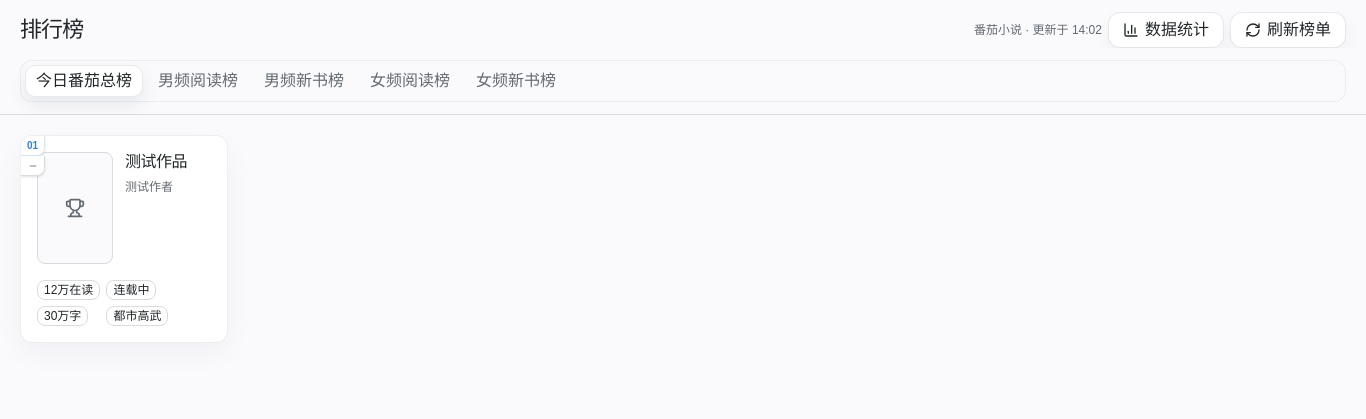
Scenario: LeaderboardPage › 切换主榜单后读取本地聚合缓存，不重新请求云端
Expected: the heading "测试作品" is shown, [125,152,187,171]
Click the button "女频新书榜" at [516, 81], box [465,65,567,97]
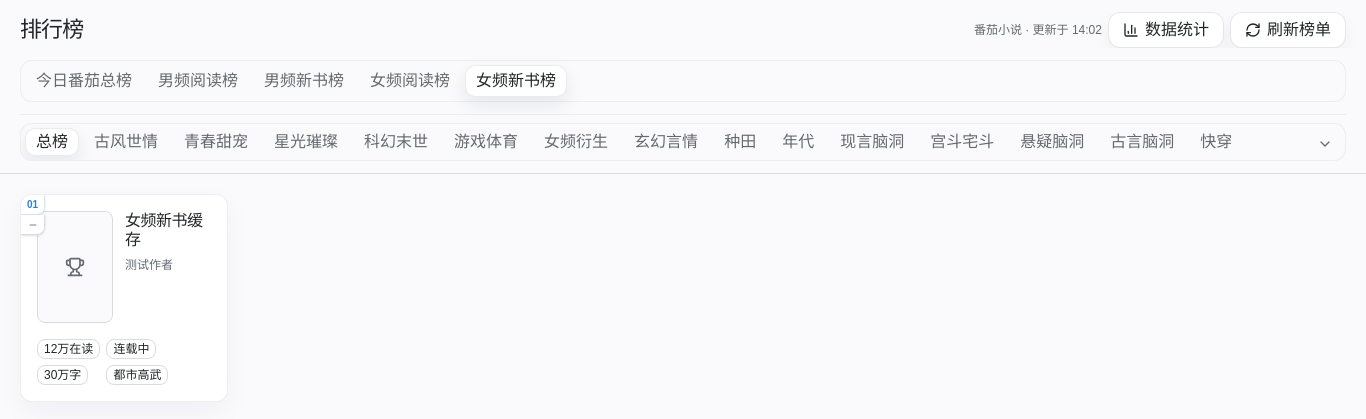
Result: the heading "女频新书缓存" is shown at [125,211,211,249]
